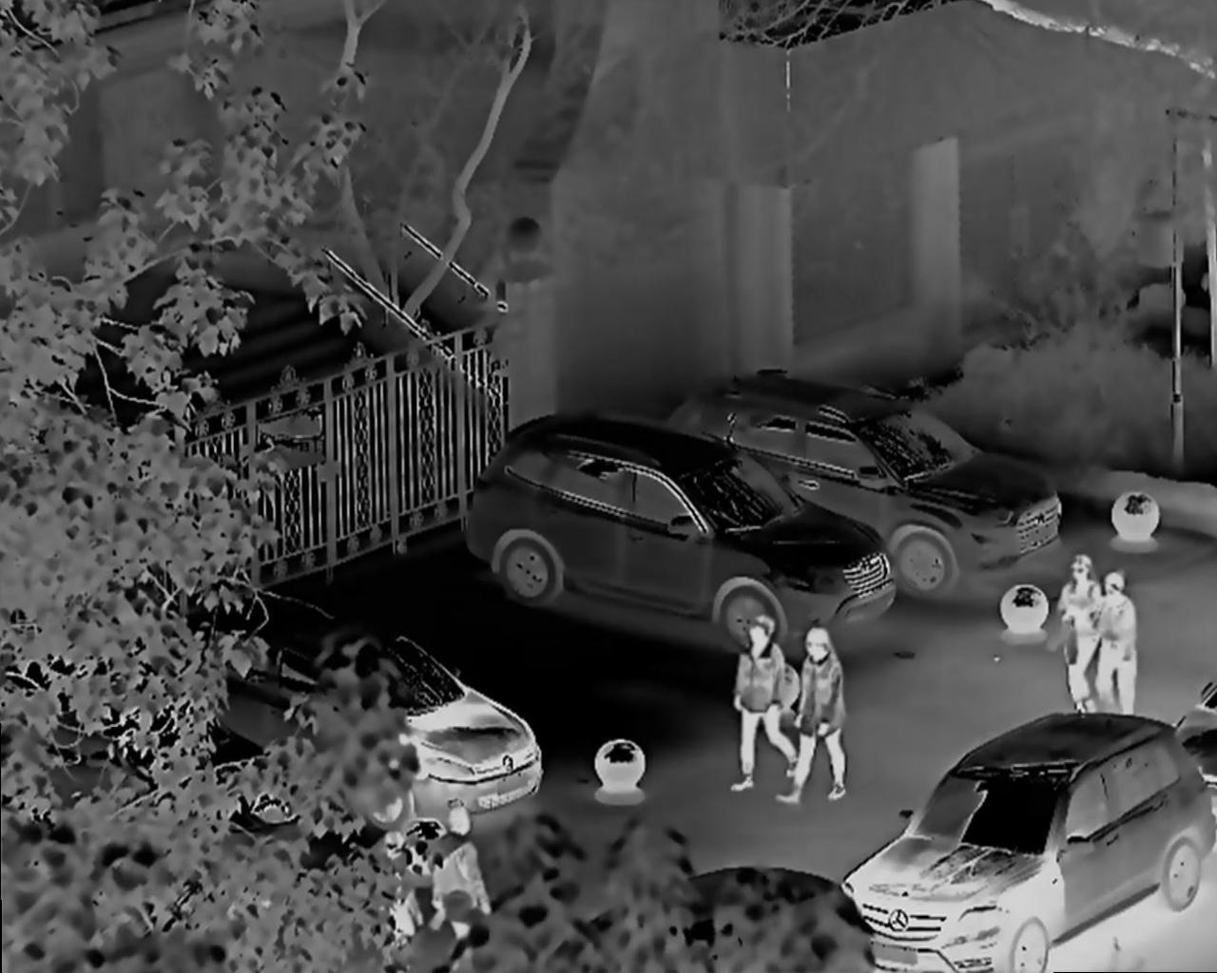person: (799, 629, 876, 796), (422, 808, 525, 922), (746, 613, 798, 772), (1052, 549, 1108, 692), (1101, 568, 1143, 716)
